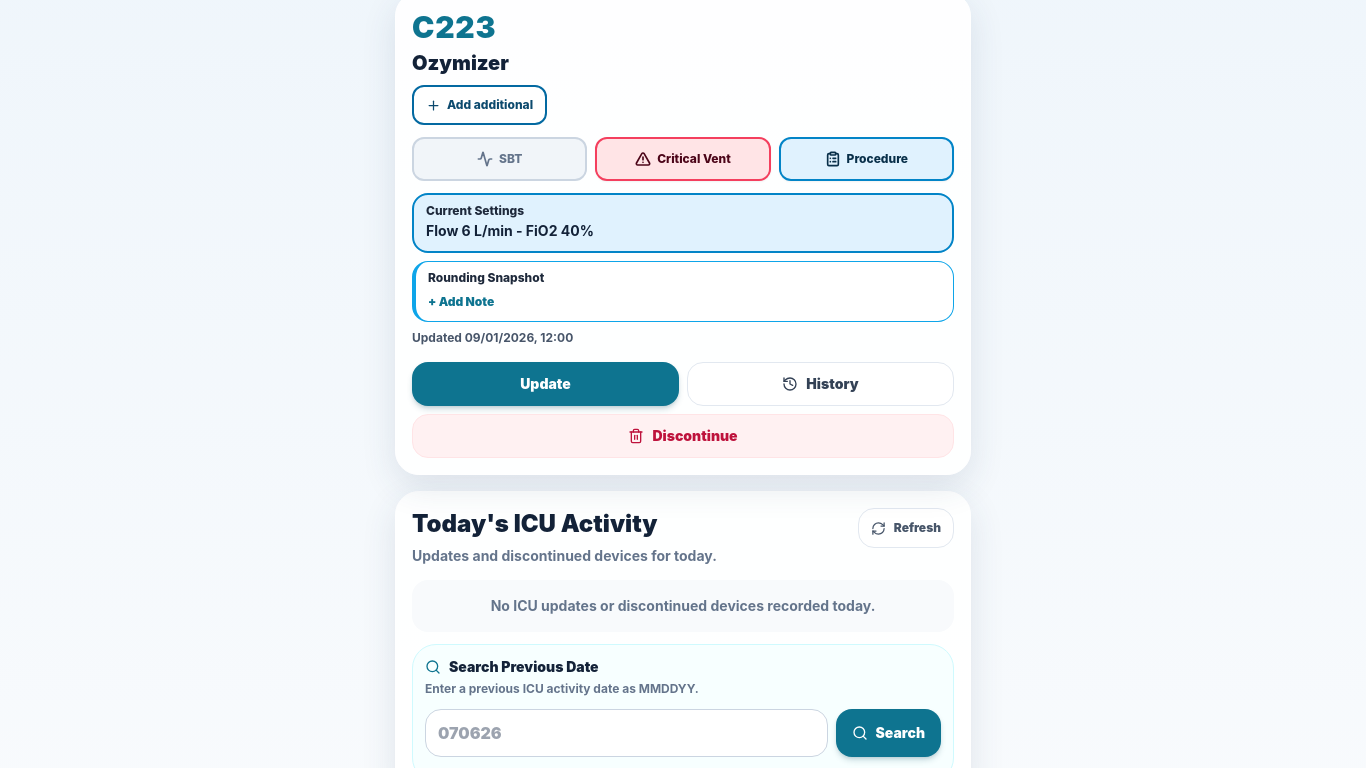
Test case: ICU patient notes › oxygen devices on full › reopens saved oxygen settings for editing
(page scrolled)
What coordinates should you click on to do the following:
click the button "Update"
I would click on:
 (546, 384)
Its box is [412,362,679,406].
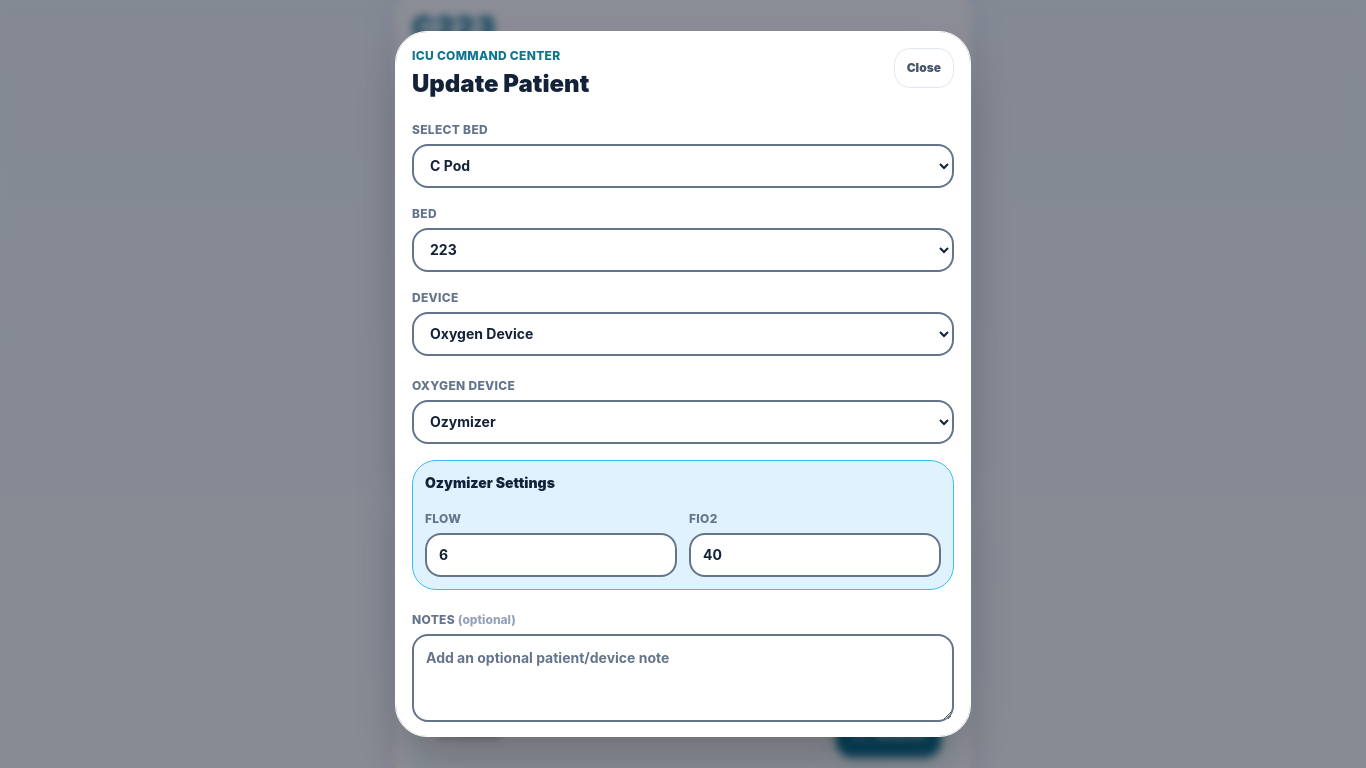
Check: the dropdown labelled "Device" shows "Oxygen Device", box [412,312,954,356]
Check: the dropdown labelled "Oxygen Device" shows "Ozymizer", box [412,400,954,444]
Check: the number field labelled "Flow" holds "6", box [425,533,677,577]
